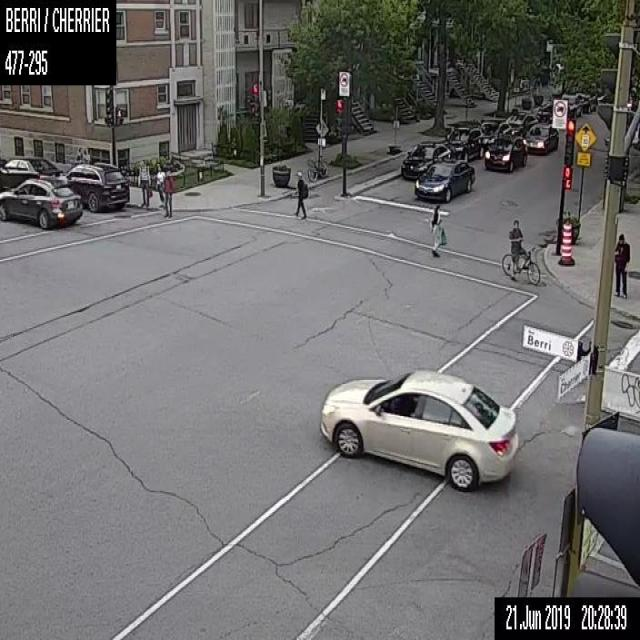construction: (557, 220, 575, 264)
cyclist: (500, 216, 541, 284)
pedestrian: (614, 232, 630, 298), (430, 203, 447, 256), (136, 157, 152, 206), (292, 170, 308, 218), (163, 168, 174, 216), (154, 163, 165, 208)
vehicle: (319, 368, 520, 492), (0, 178, 82, 230), (54, 162, 129, 212), (413, 160, 474, 202), (400, 141, 450, 180), (483, 135, 527, 170), (443, 125, 484, 161), (0, 157, 62, 178), (526, 122, 558, 154), (480, 121, 511, 152), (506, 112, 537, 138), (561, 95, 581, 118), (580, 92, 597, 112), (536, 104, 552, 124)
